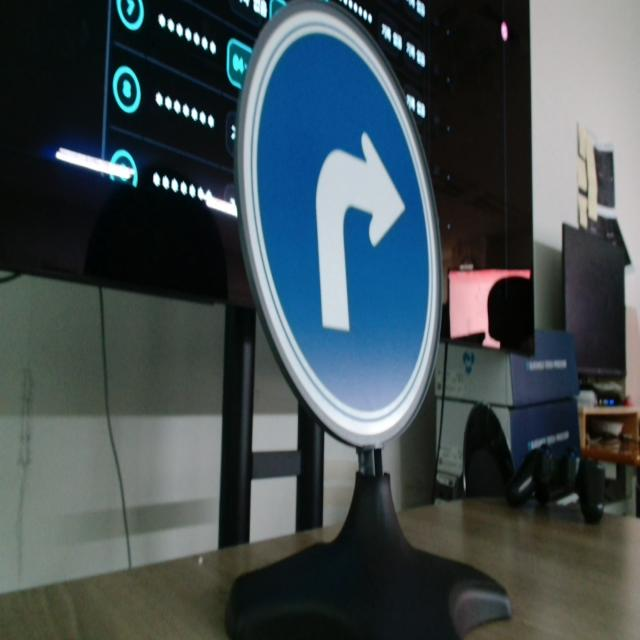right_dierection: (216, 7, 466, 423)
